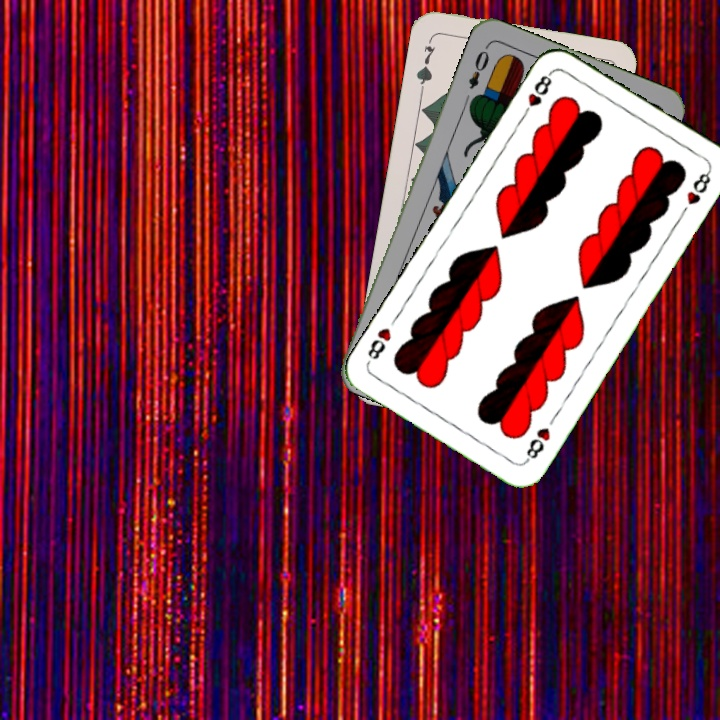EO: (464, 41, 492, 92)
G7: (412, 34, 438, 93)
H8: (518, 68, 555, 121), (520, 423, 553, 466)
